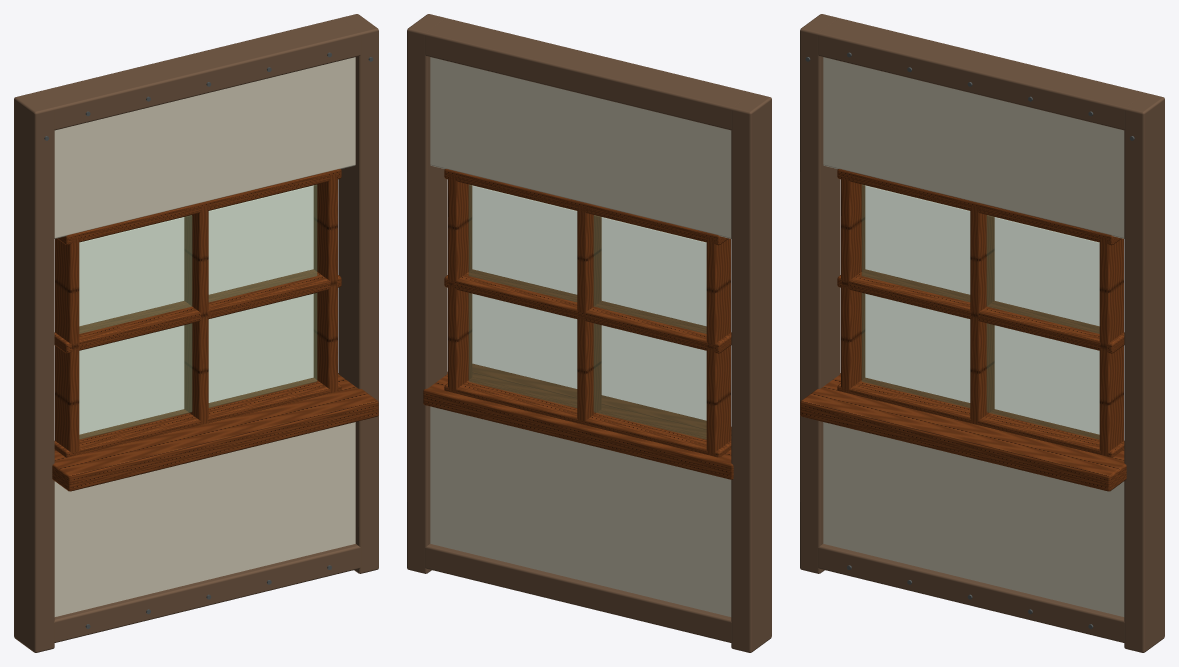
Rendered from adventurers-tavern-and-guild-hall-window-bay-2e7ff094__24663.glb.
3 renders of one model, left to right at view 1: azimuth 30°, elevation 25°; view 2: azimuth 150°, elevation 25°; view 3: azimuth 330°, elevation 25°, orthographic.
Parts seen in each view (by area): view 1: window-bay; view 2: window-bay; view 3: window-bay.
Part boxes in pixels (box(x1,y1,x2,y2)): window-bay: box(14, 14, 378, 652); window-bay: box(407, 14, 771, 652); window-bay: box(800, 14, 1164, 652).
Bounding box in the file's own units: 2 × 3 × 0.3999.
5 materials, 1 textured.
